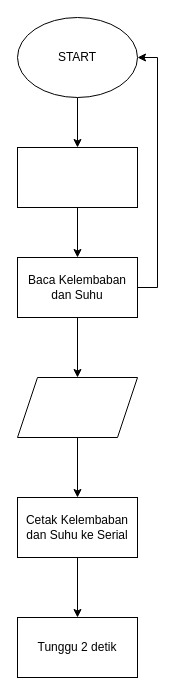
Some shapes in this 183 by 695 pixel diagram are drawn without their labels. Here are the shapes that lost their labels. From the top down, the centre of each, then its label:
At point (77, 177): "Inisialisasi Serial dan DHT".
At point (77, 407): "Kegagalan Pembacaan?".
